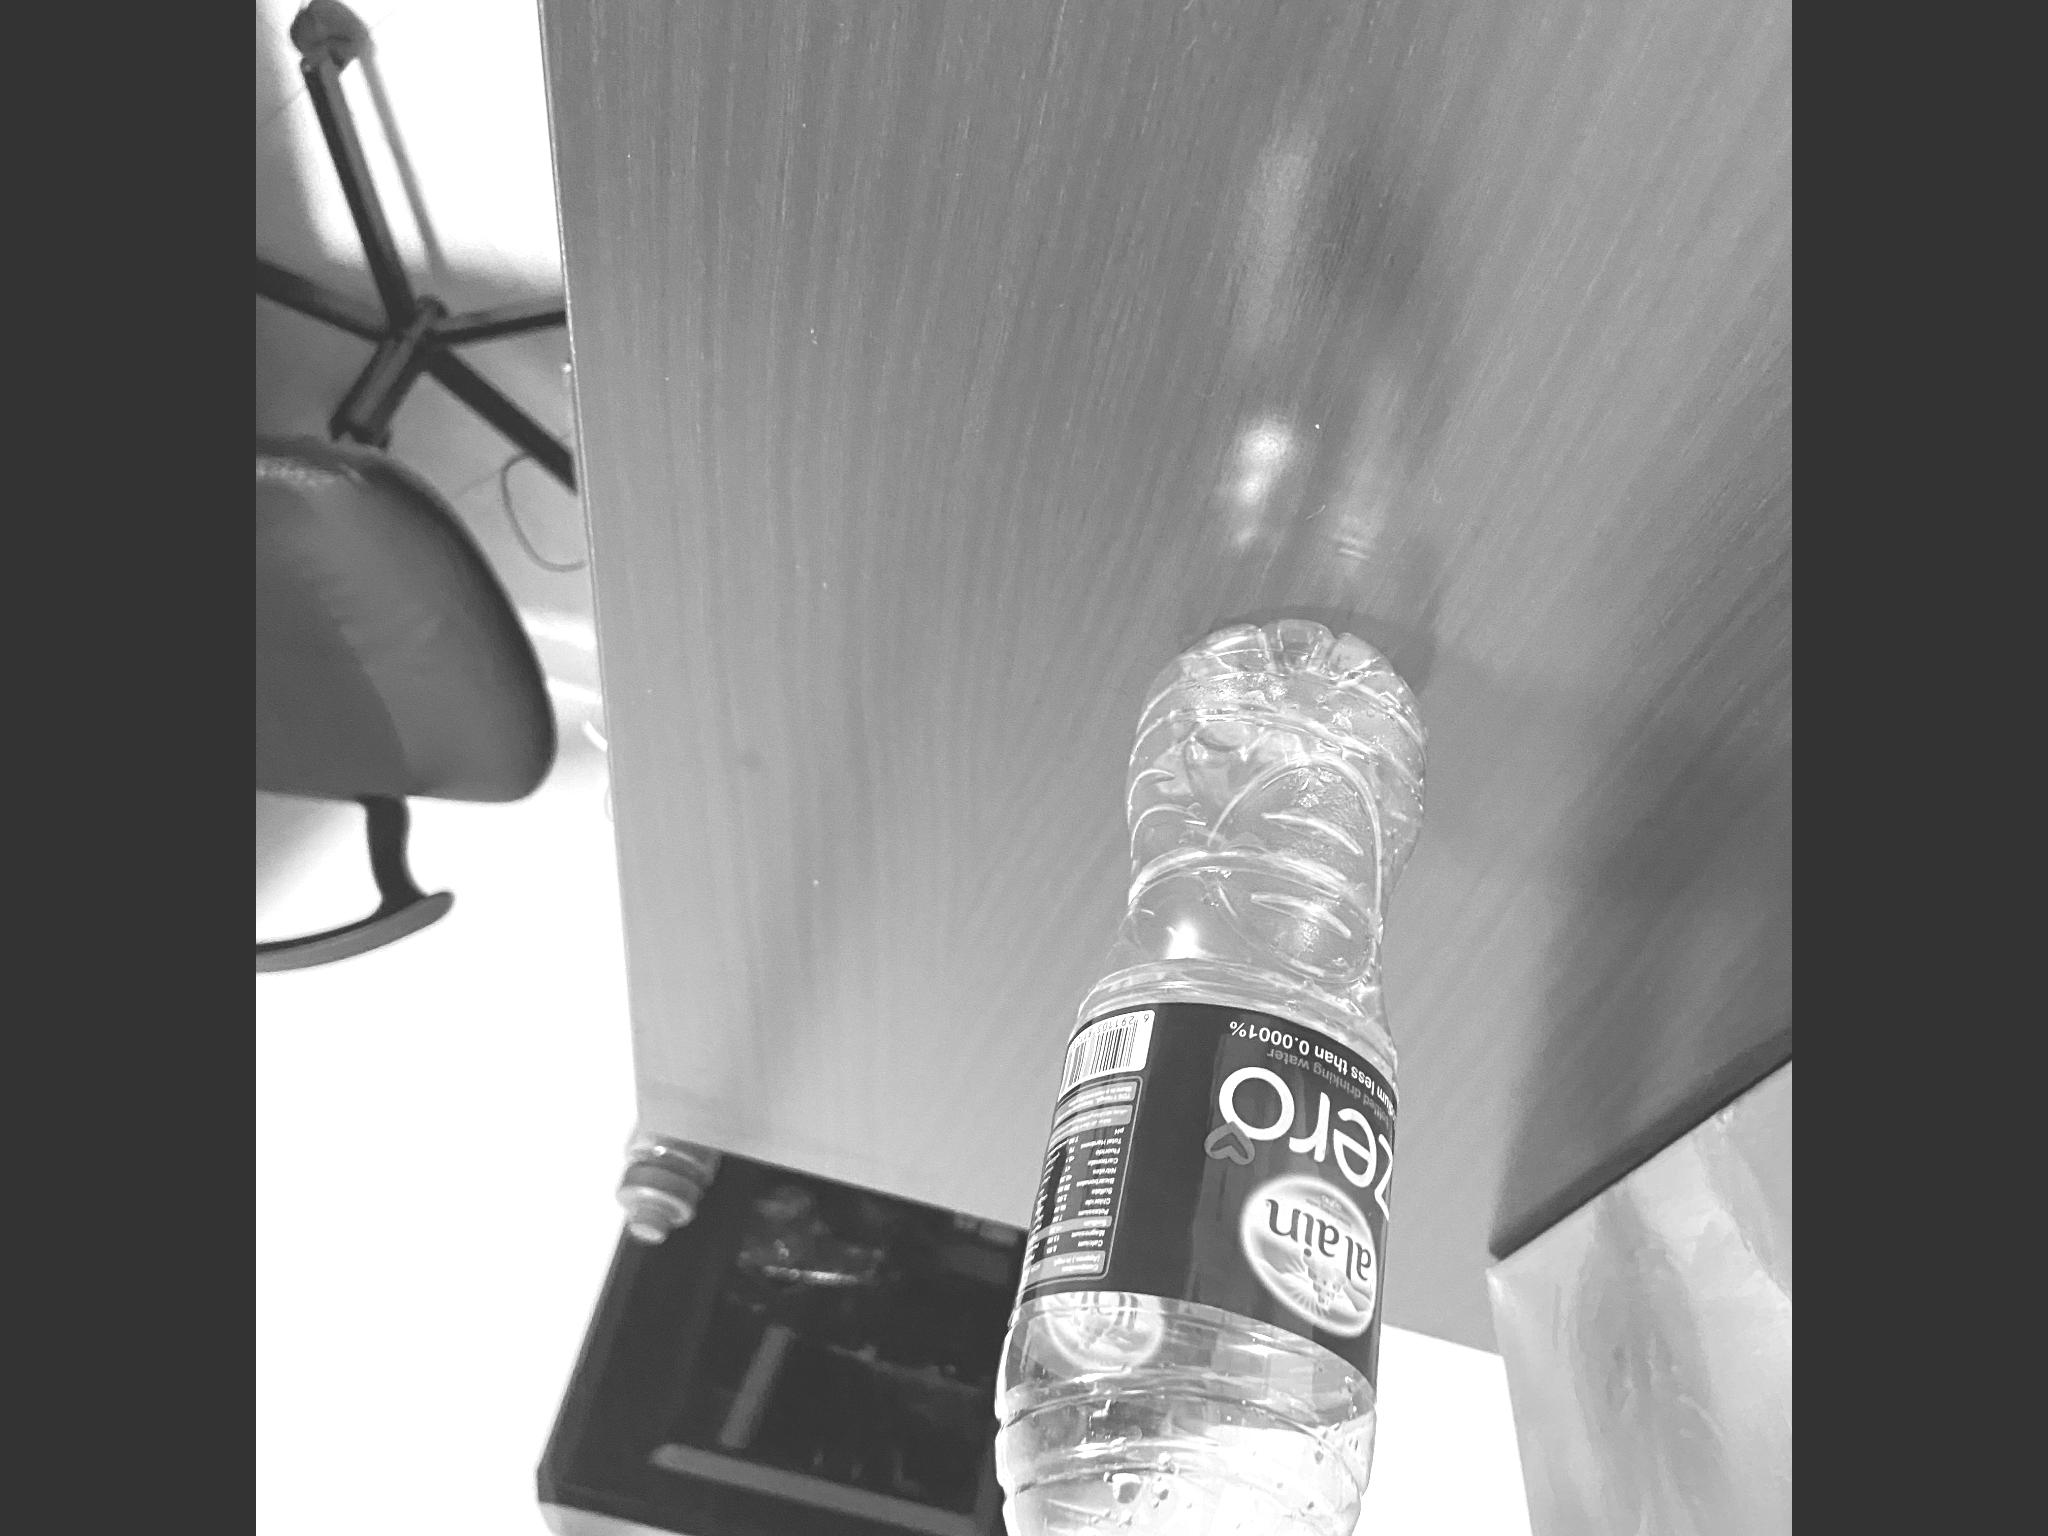bottle: (1003, 608, 1442, 1536)
